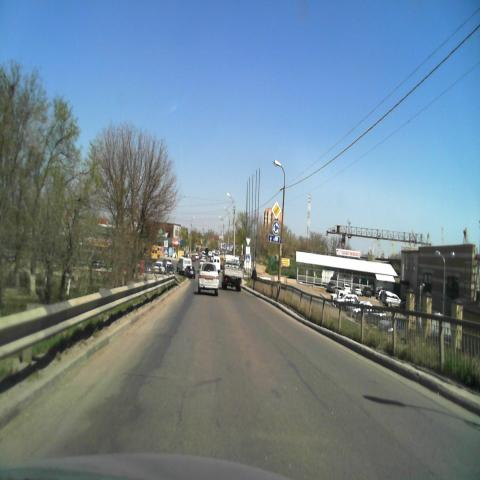2_2: (271, 201, 281, 219)
4_3: (272, 221, 280, 235)
6_15_1: (268, 235, 280, 244)
